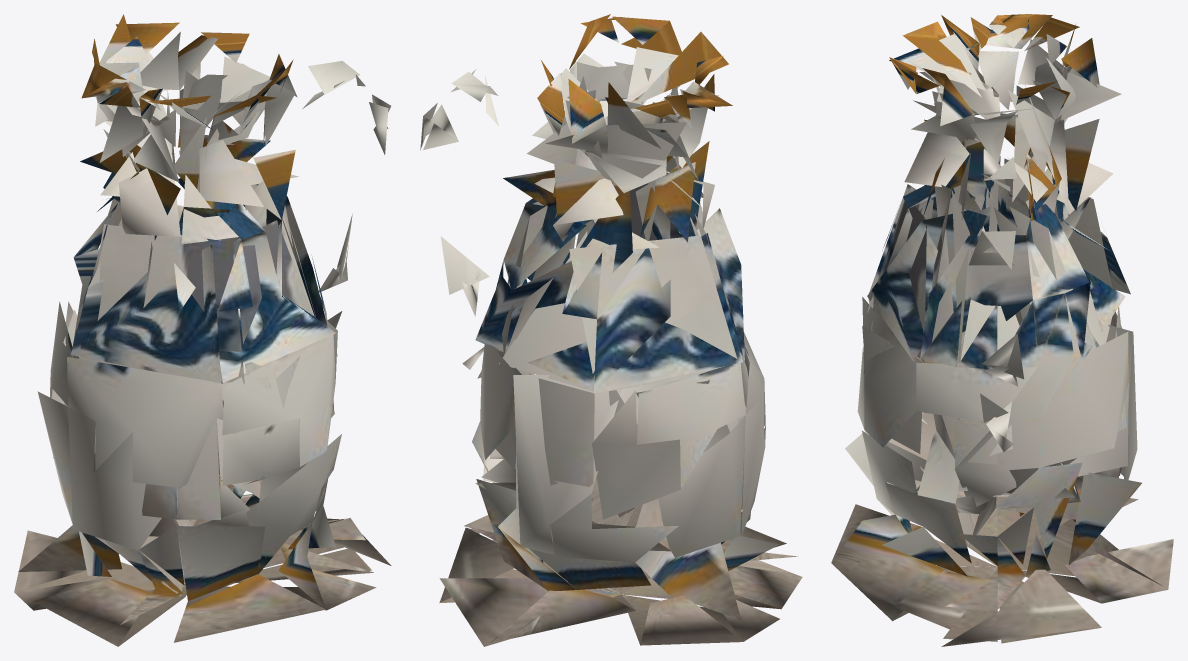
File: keepsake-water-jug.lod1.glb
The picture shows the model from 3 angles, left to right: view 1: azimuth 30°, elevation 25°; view 2: azimuth 150°, elevation 25°; view 3: azimuth 270°, elevation 25°; orthographic projection. The views are drawn at different scales.
Visible parts, largest first — view 1: keepsake-water-jug_lod1; view 2: keepsake-water-jug_lod1; view 3: keepsake-water-jug_lod1.
Part boxes in pixels (box(x1,y1,x2,y2)): keepsake-water-jug_lod1: box(14, 14, 391, 646); keepsake-water-jug_lod1: box(420, 14, 802, 646); keepsake-water-jug_lod1: box(831, 14, 1173, 646).
Bounding box in the file's own units: 0.3451 × 0.5126 × 0.2994.
Materials: 1 (1 with a texture image).
